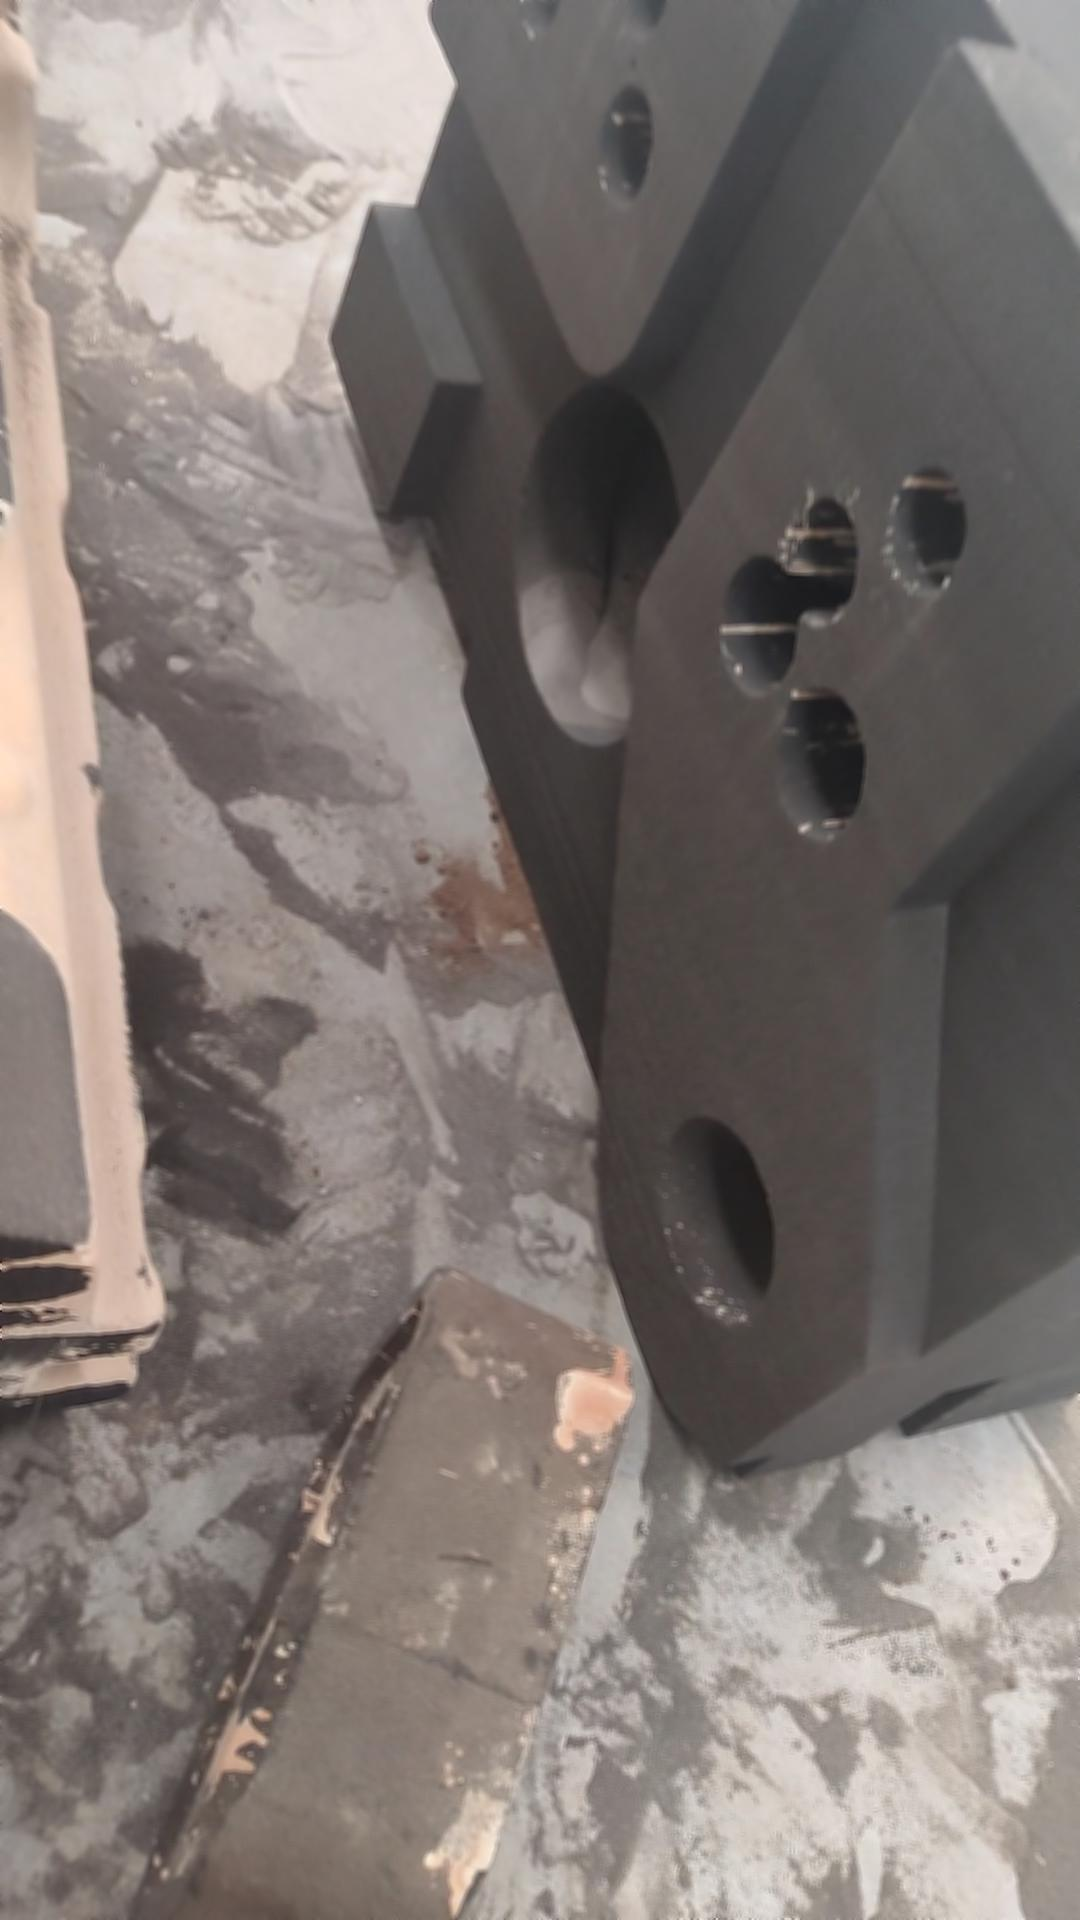pouring hole: (658, 1114, 778, 1325)
